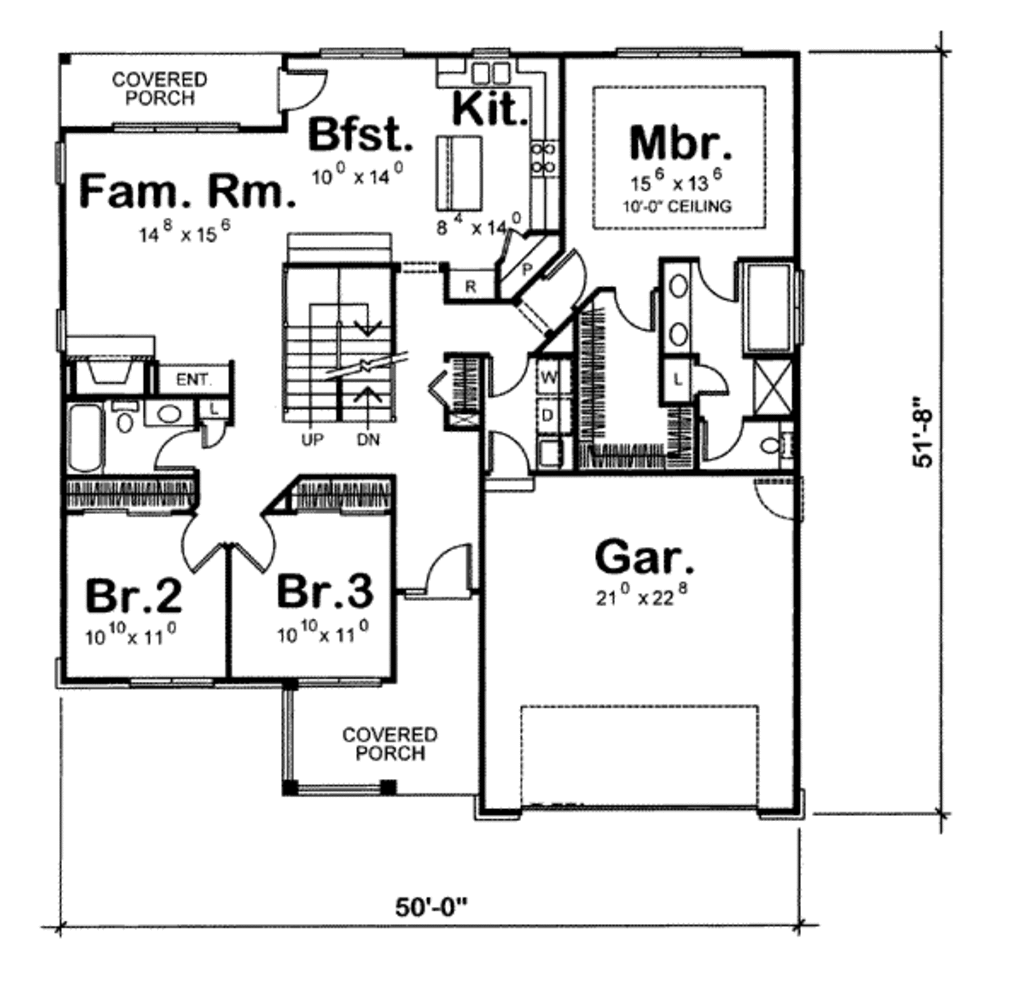door: (408, 539, 472, 603), (749, 470, 817, 530), (473, 430, 535, 494), (268, 58, 335, 117), (225, 517, 283, 576), (609, 278, 660, 338), (488, 345, 539, 402), (180, 512, 224, 575), (695, 254, 745, 308), (153, 429, 203, 476), (705, 411, 744, 461), (692, 362, 728, 395)
large_sink: (108, 399, 144, 439), (754, 430, 797, 460)
small_sink: (659, 267, 698, 354), (139, 398, 197, 425)
stairs: (280, 211, 406, 431)
tub: (737, 254, 805, 359), (63, 400, 116, 477)
twin_sink: (458, 50, 516, 86)
window: (109, 114, 242, 134), (612, 45, 749, 64), (120, 678, 218, 690), (52, 140, 73, 189)
